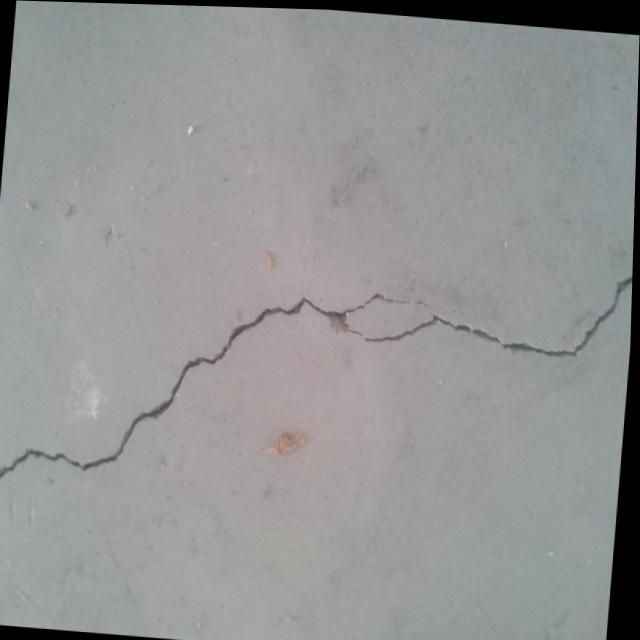Crack: (134, 258, 406, 443), (362, 242, 635, 375), (0, 398, 150, 526)
